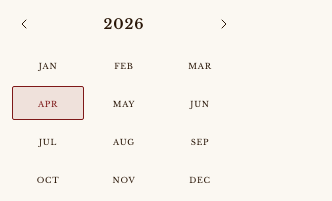
Test: ServicesCalendarMonthPicker › goes back when the previous year stepper is clicked
This screenshot has width=332, height=201.
Click the button named "previous year": click(24, 24) [12,12,36,36]
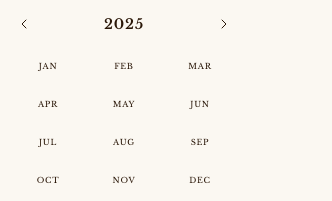
Now the text "2025" is shown, box [104,14,144,34]
